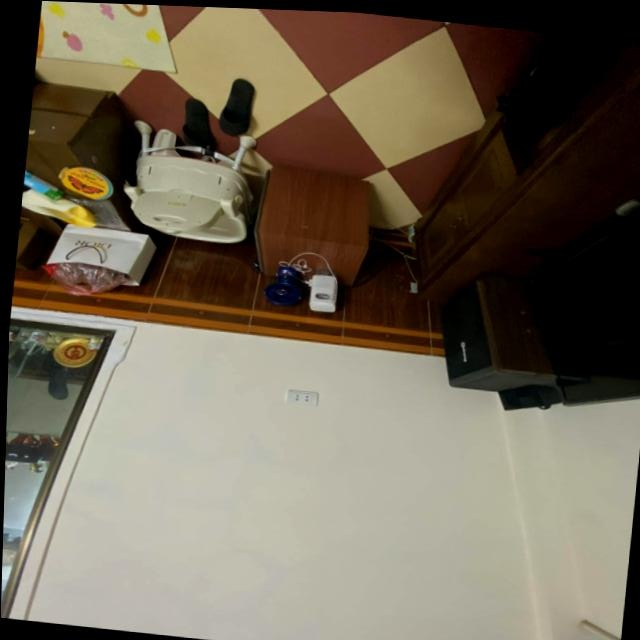outlet: (284, 390, 318, 409)
